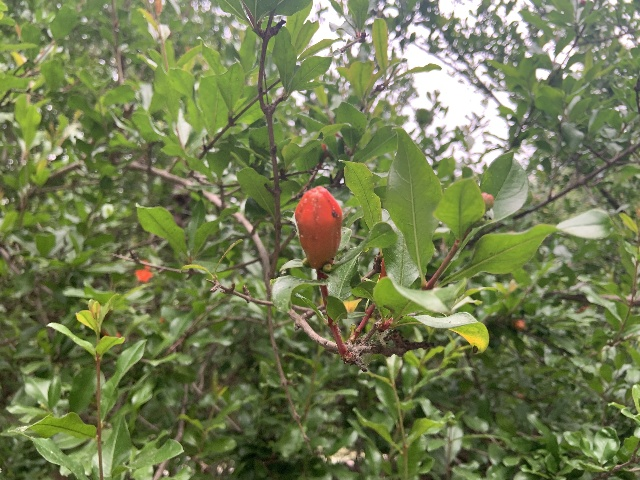bud: (294, 185, 343, 267), (481, 193, 493, 211)
flower: (134, 259, 152, 282)
